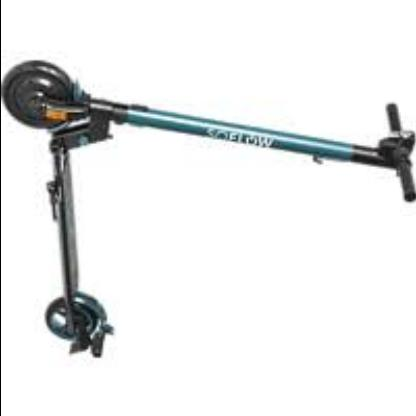bike: (2, 58, 415, 367)
